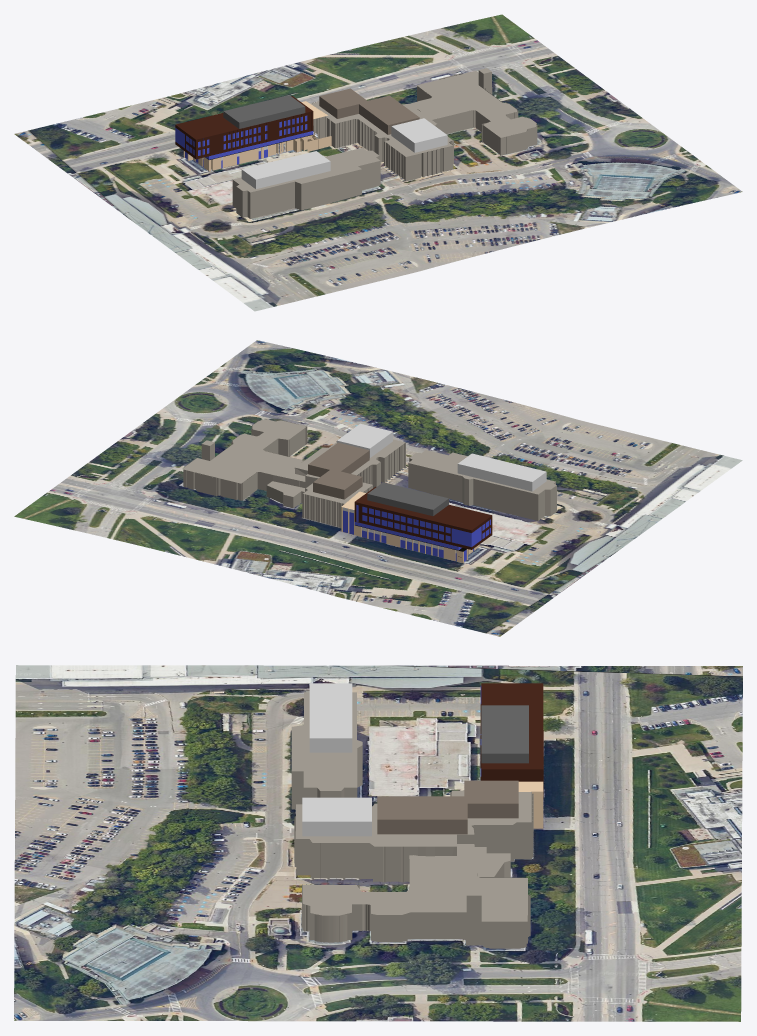
The model's file is eng-campus.glb.
The picture shows the model from 3 angles, top to bottom: view 1: azimuth 30°, elevation 25°; view 2: azimuth 150°, elevation 25°; view 3: azimuth 270°, elevation 25°; orthographic projection. The views are drawn at different scales.
Visible parts, largest first — view 1: Ground, SEB_L02.001, TEB_L03_second, SEB_L04, Cube.004, SEB_L02, Cube, Cube.002, Cube.003, Cube.001, Black Cap; view 2: Ground, SEB_L02.001, TEB_L03_second, SEB_L04, Cube.004, Cube, Cube.002, SEB_L02, Cube.001, Cube.003, Black Cap; view 3: Ground, SEB_L02.001, TEB_L03_second, SEB_L04, Cube.002, Cube.004, Cube, Cube.003, Cube.001.
Boxes of the visible parts, left/top/right/bottom form: Ground: left=14, top=14, right=742, bottom=311; SEB_L02.001: left=301, top=68, right=537, bottom=181; TEB_L03_second: left=232, top=147, right=380, bottom=218; SEB_L04: left=175, top=96, right=313, bottom=159; Cube.004: left=241, top=151, right=330, bottom=188; SEB_L02: left=183, top=134, right=331, bottom=171; Cube: left=223, top=95, right=305, bottom=128; Cube.002: left=358, top=95, right=419, bottom=134; Cube.003: left=391, top=118, right=447, bottom=152; Cube.001: left=319, top=88, right=367, bottom=118; Black Cap: left=205, top=131, right=313, bottom=159; Ground: left=14, top=340, right=742, bottom=636; SEB_L02.001: left=182, top=419, right=405, bottom=534; TEB_L03_second: left=408, top=450, right=556, bottom=520; SEB_L04: left=354, top=486, right=492, bottom=549; Cube.004: left=457, top=453, right=546, bottom=491; Cube: left=367, top=482, right=448, bottom=515; Cube.002: left=308, top=442, right=369, bottom=476; SEB_L02: left=354, top=525, right=479, bottom=562; Cube.001: left=313, top=469, right=362, bottom=499; Cube.003: left=337, top=423, right=392, bottom=457; Black Cap: left=354, top=522, right=466, bottom=551; Ground: left=14, top=665, right=742, bottom=1021; SEB_L02.001: left=294, top=781, right=543, bottom=948; TEB_L03_second: left=291, top=692, right=362, bottom=809; SEB_L04: left=480, top=683, right=543, bottom=798; Cube.002: left=377, top=796, right=467, bottom=834; Cube.004: left=309, top=683, right=352, bottom=752; Cube: left=481, top=705, right=528, bottom=763; Cube.003: left=302, top=797, right=371, bottom=836; Cube.001: left=464, top=780, right=518, bottom=818.
Size of the model in its own units: 181 by 17.73 by 155.
9 materials, 1 textured.
